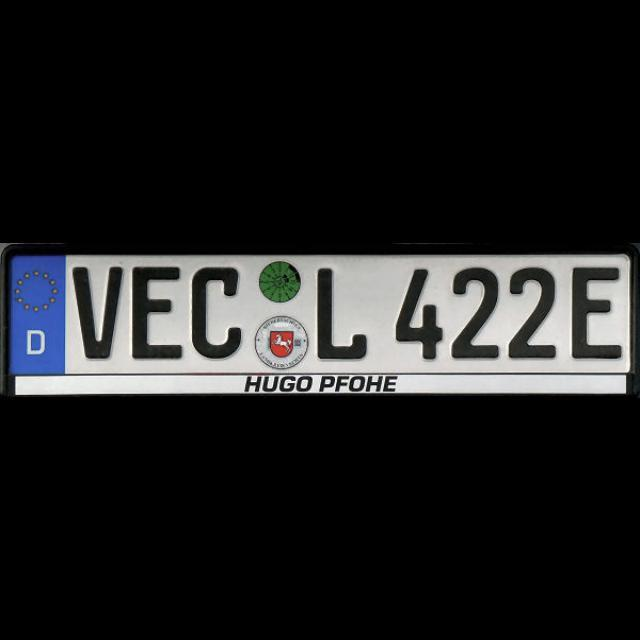license-plates: (0, 246, 639, 396)
